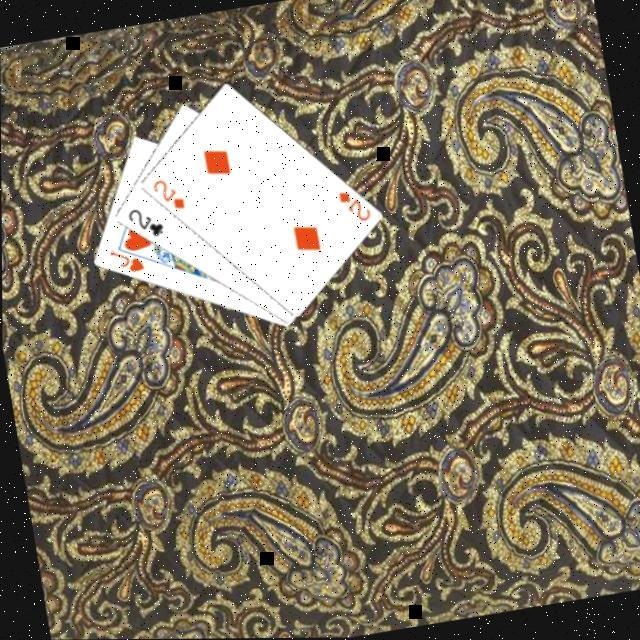2C: (125, 198, 168, 242)
2D: (149, 170, 189, 213), (335, 183, 375, 226)
JH: (106, 240, 148, 277)
